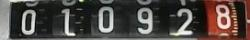digits: (136, 6, 153, 34), (97, 5, 114, 32), (176, 8, 193, 35), (21, 9, 36, 35), (215, 4, 231, 28), (62, 8, 74, 36)
